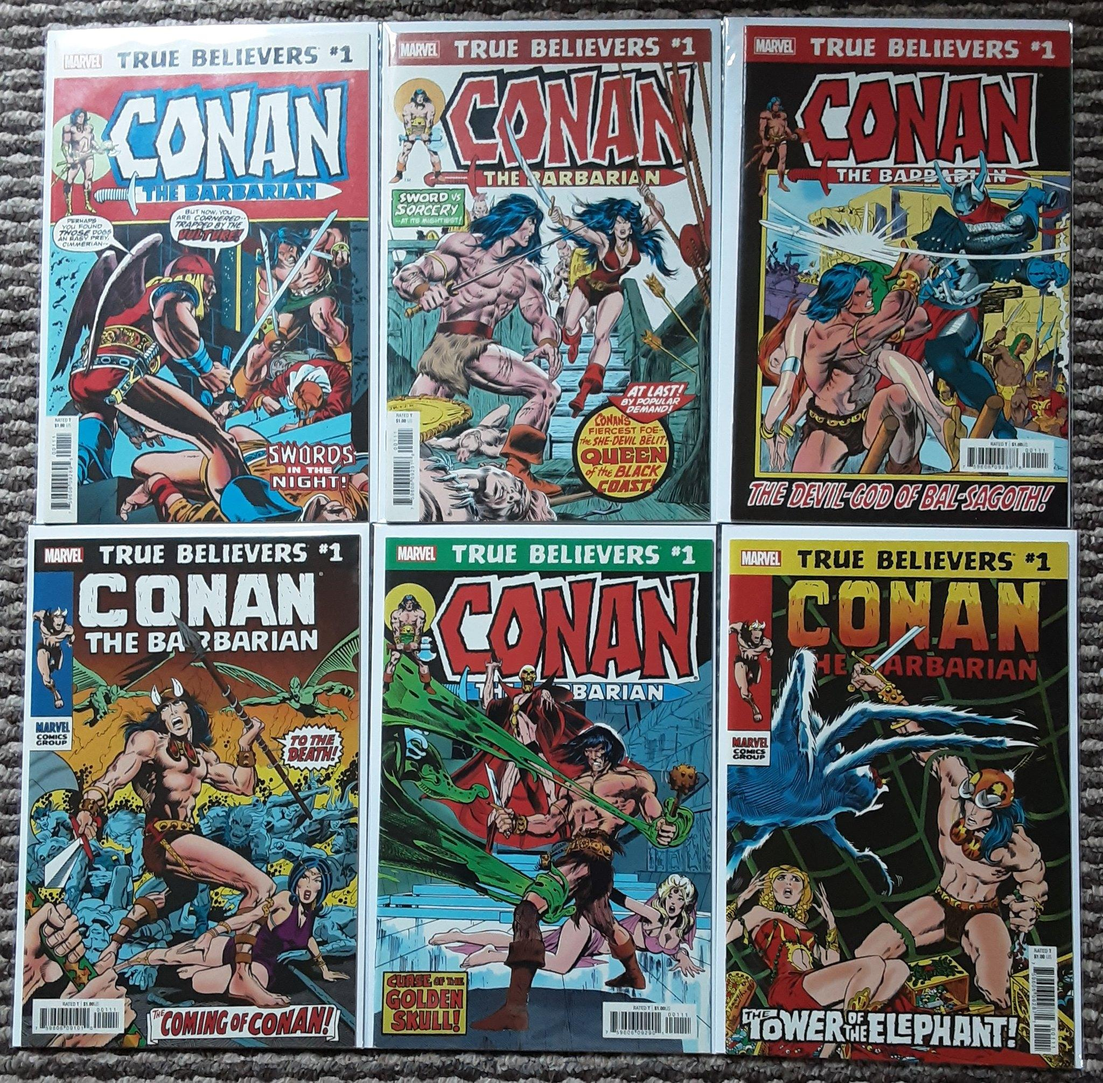comic: (717, 527, 1081, 1068), (12, 521, 369, 1051), (364, 526, 715, 1053), (371, 16, 721, 525), (725, 20, 1071, 525), (39, 19, 377, 527)
